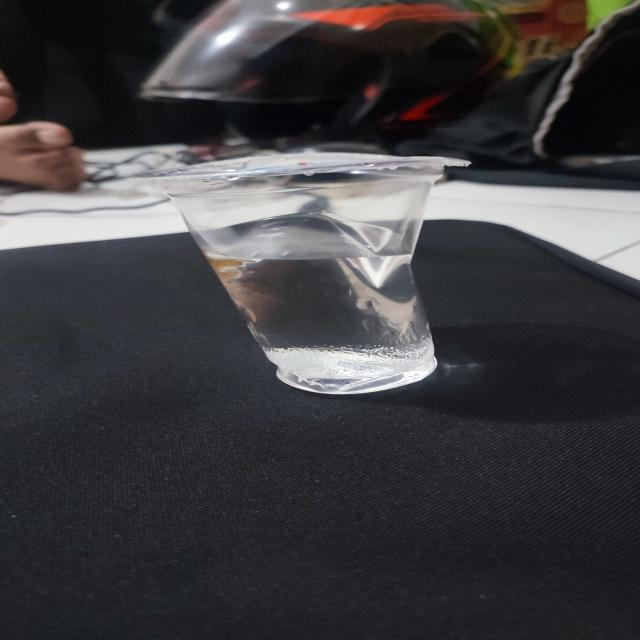air-gelas-rusak: (132, 145, 496, 398)
